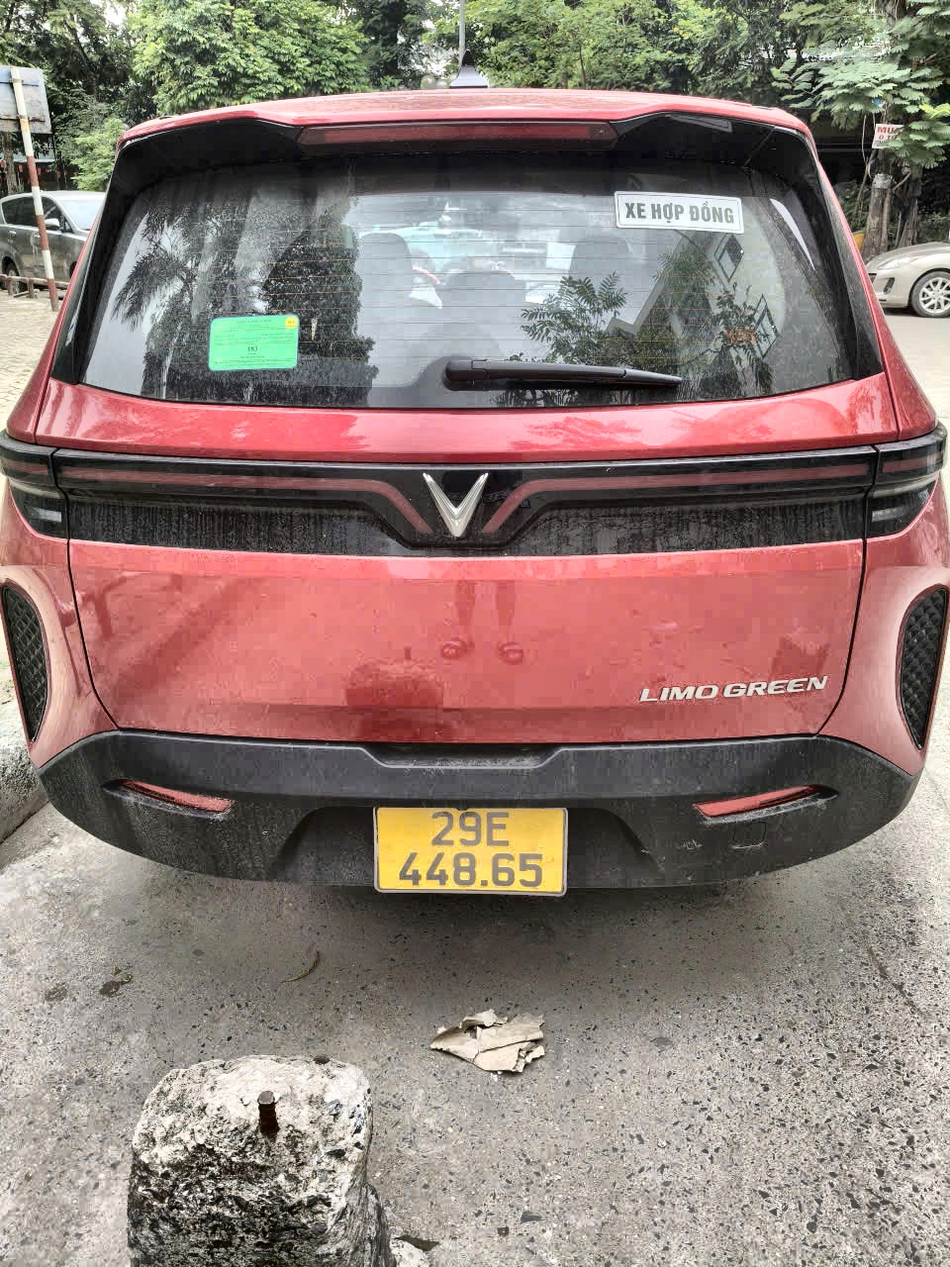plate: (429, 1013, 546, 1060)
